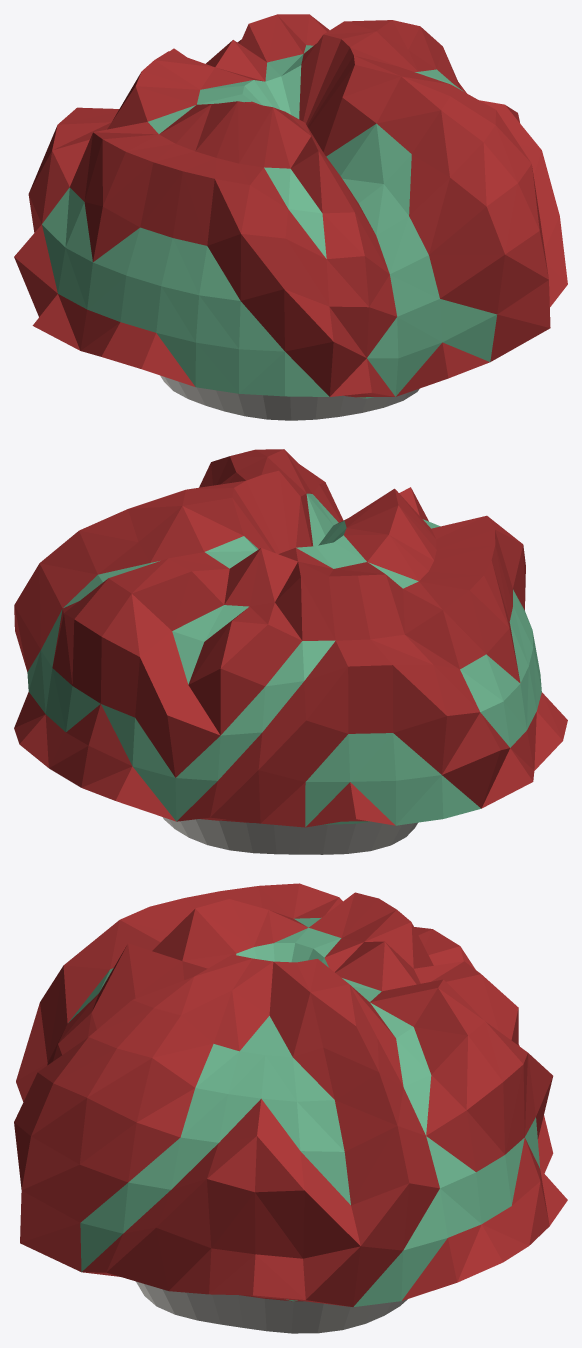
Rendered from open-brain-coral-50344c.glb.
3 renders of one model, top to bottom at view 1: azimuth 30°, elevation 25°; view 2: azimuth 150°, elevation 25°; view 3: azimuth 270°, elevation 25°, orthographic. The views are drawn at different scales.
Visible parts, largest first — view 1: open-brain-coral-shell; view 2: open-brain-coral-shell; view 3: open-brain-coral-shell.
Part boxes in pixels (x1,y1,x2,y2): open-brain-coral-shell: [14, 14, 567, 420]; open-brain-coral-shell: [14, 449, 567, 854]; open-brain-coral-shell: [14, 883, 567, 1333].
Bounding box in the file's own units: 0.22 × 0.1312 × 0.1951.
